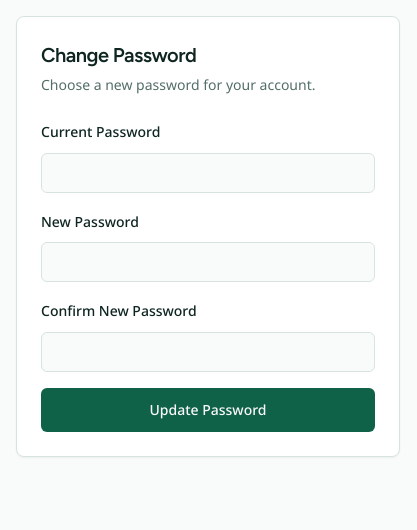
ChangePassword › rejects reusing the current password
The width and height of the screenshot is (417, 530).
In the password field labelled "Current Password": (208, 173) [41,153,375,193], type "P@ssword1234"
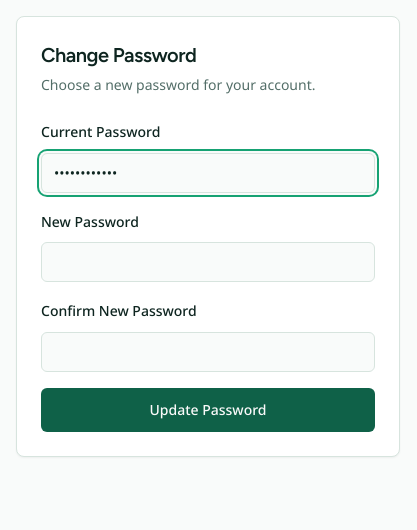
In the password field labelled "New Password": (208, 262) [41,242,375,282], type "P@ssword1234"
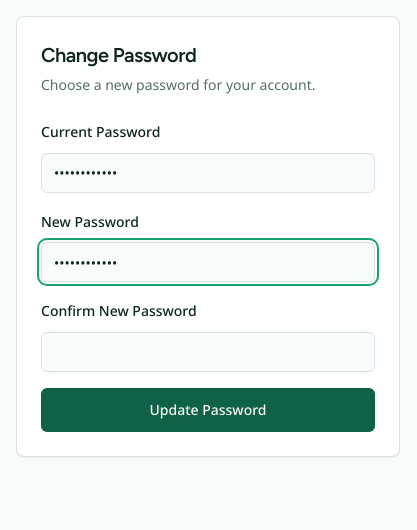
In the password field labelled "Confirm New Password": (208, 352) [41,332,375,372], type "P@ssword1234"
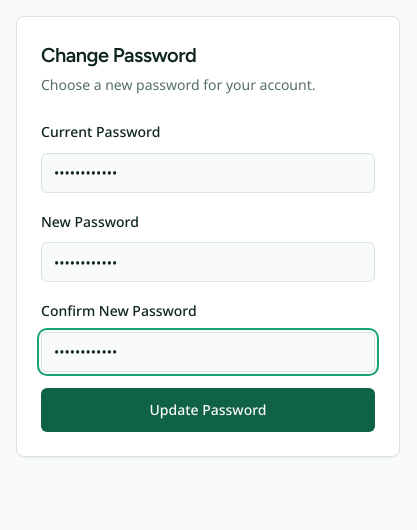
Click the button "Update Password": (208, 410) [41,388,375,432]
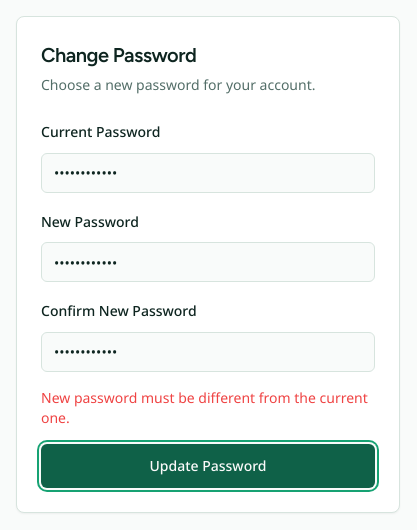
Expected: the text "New password must be different from the current one." is shown, [41,388,375,428]
